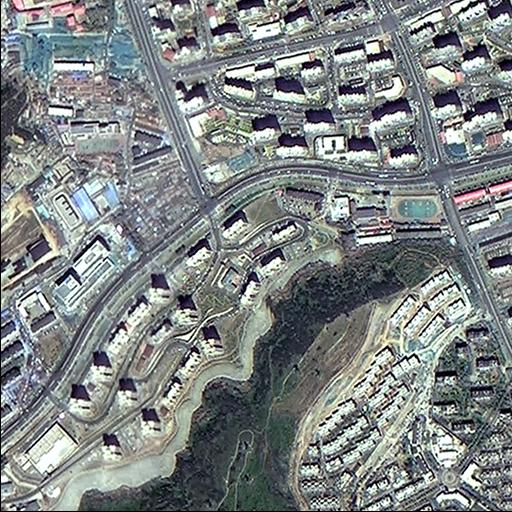school: (330, 183, 453, 246), (53, 119, 128, 157)
